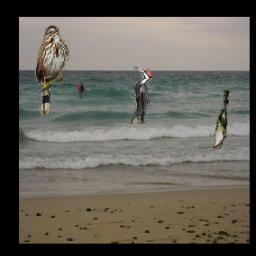Cuckoo: (213, 90, 230, 149)
Sparrow: (35, 25, 69, 115)
Woodpecker: (129, 67, 152, 125)
